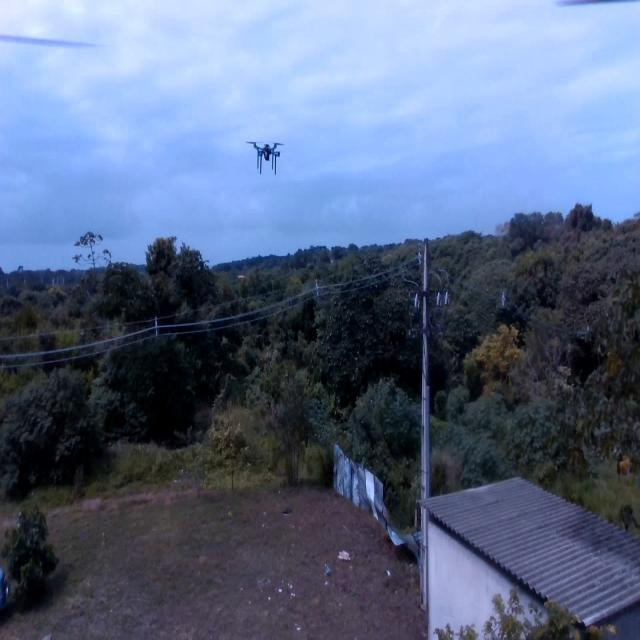-uav-: (248, 132, 288, 187)
